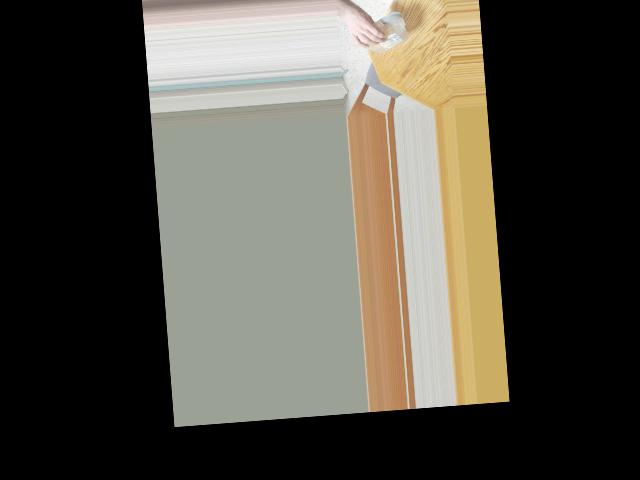cheese: (363, 15, 406, 48)
